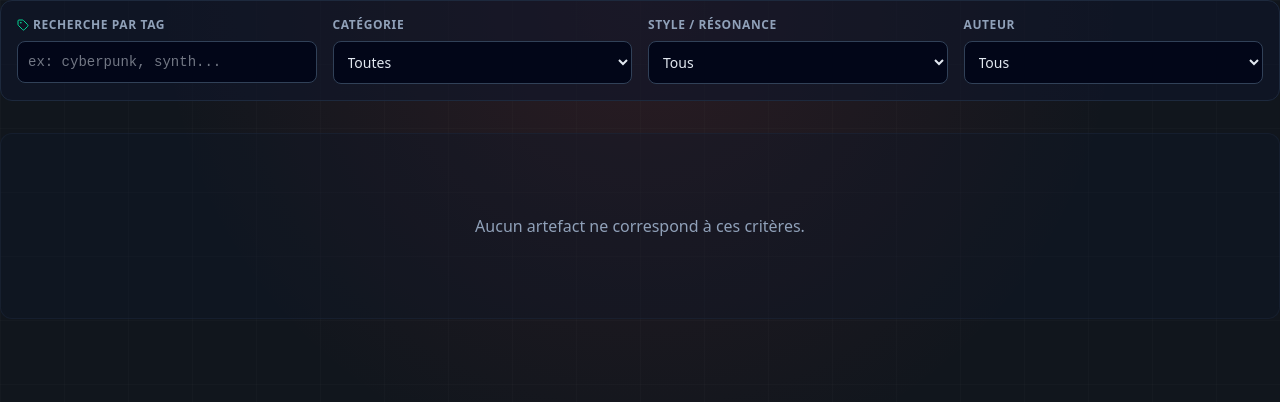
Test case: Composant MarketPlaceInteractive › doit déclencher le fetch uniquement si les filtres changent et mettre à jour l’URL
Step 1. Type "cyberpunk" into the field with placeholder "ex: cyberpunk, synth..." → (167, 62), box [17,41,316,83]
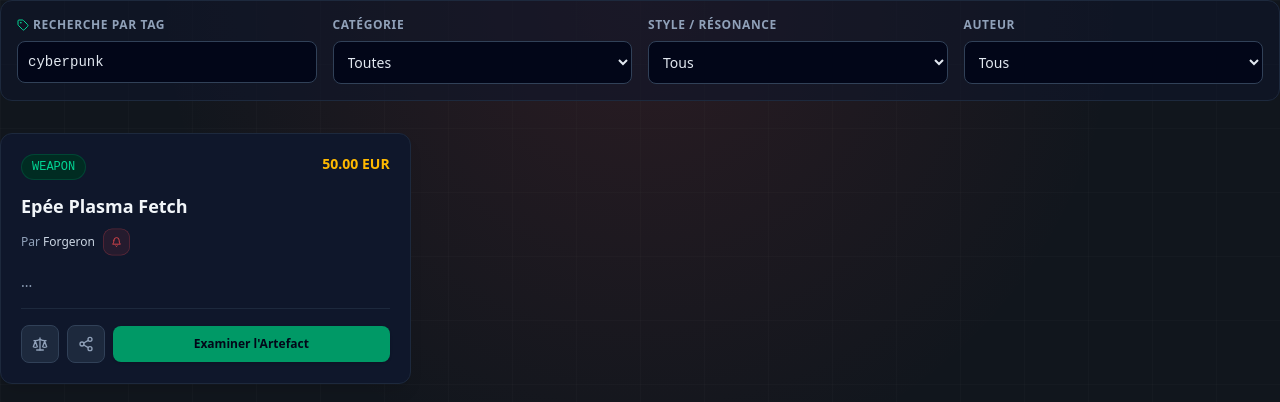
Expected: the heading "Epée Plasma Fetch" is shown, [21,194,188,218]
